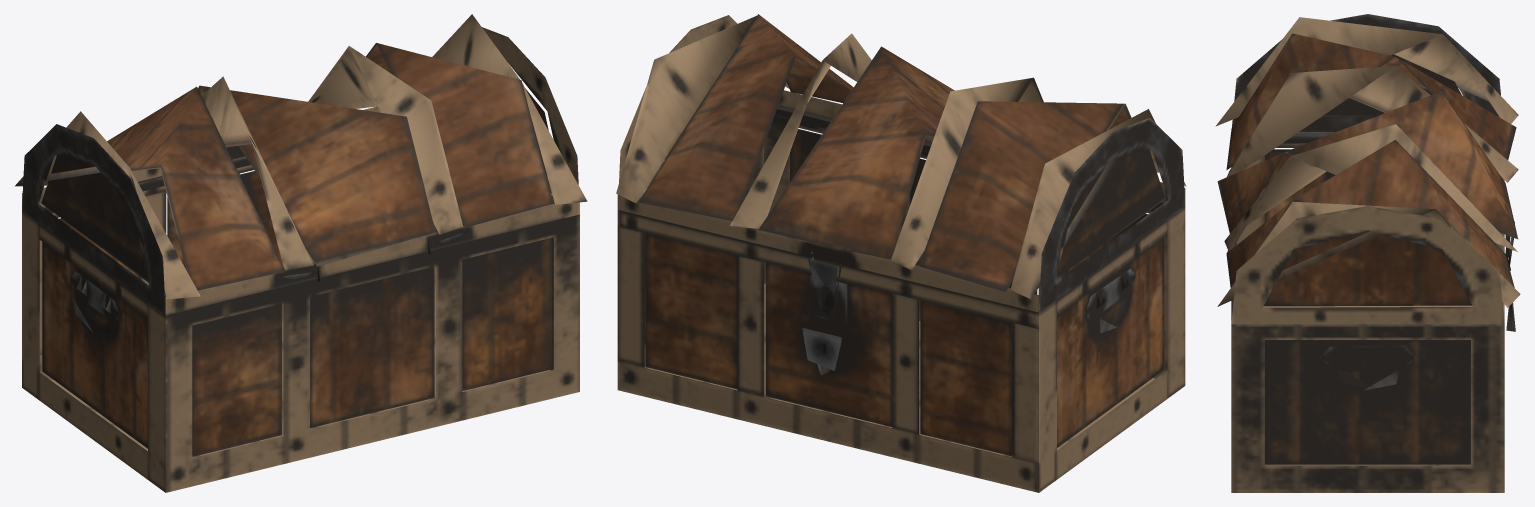
The model's file is chest_closed_lod2.glb.
3 renders of one model, left to right at view 1: azimuth 30°, elevation 25°; view 2: azimuth 150°, elevation 25°; view 3: azimuth 270°, elevation 25°, orthographic. The views are drawn at different scales.
Parts seen in each view (by area): view 1: chest_closed_lod2; view 2: chest_closed_lod2; view 3: chest_closed_lod2.
Boxes of the visible parts, left/top/right/bottom form: chest_closed_lod2: left=15, top=14, right=587, bottom=492; chest_closed_lod2: left=616, top=14, right=1186, bottom=492; chest_closed_lod2: left=1215, top=14, right=1520, bottom=492.
Bounding box in the file's own units: 0.4399 × 0.3156 × 0.2895.
Materials: 1 (1 with a texture image).
